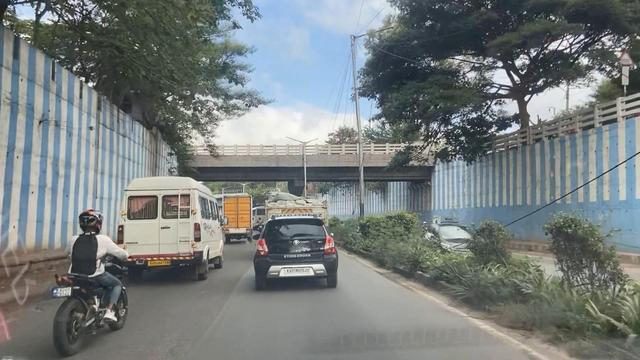HMV: (112, 171, 219, 279), (219, 196, 250, 242)
LMV: (56, 198, 127, 348), (252, 214, 336, 288)
